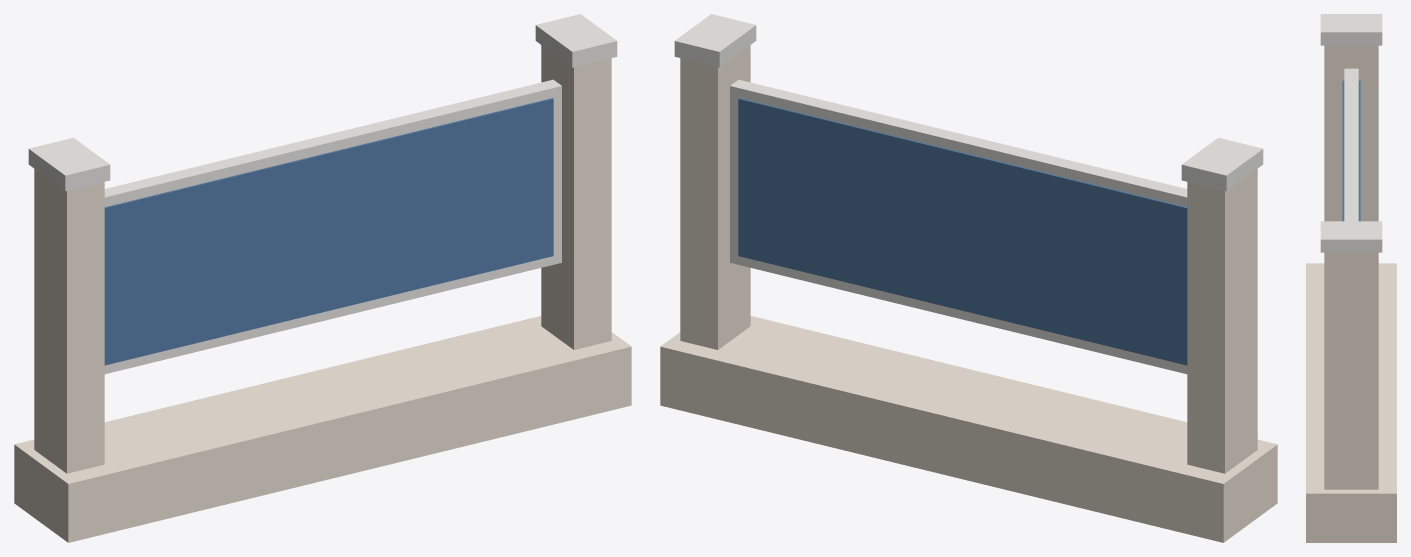
File: Name_Board.fbx
3 renders of one model, left to right at view 1: azimuth 30°, elevation 25°; view 2: azimuth 150°, elevation 25°; view 3: azimuth 270°, elevation 25°, orthographic. The views are drawn at different scales.
Parts seen in each view (by area): view 1: Name_Board; view 2: Name_Board; view 3: Name_Board.
Boxes of the visible parts, bbox=[...] form: Name_Board: bbox=[14, 14, 631, 542]; Name_Board: bbox=[660, 14, 1277, 542]; Name_Board: bbox=[1306, 14, 1396, 542].
Bounding box in the file's own units: 3 × 1.83 × 0.5.
